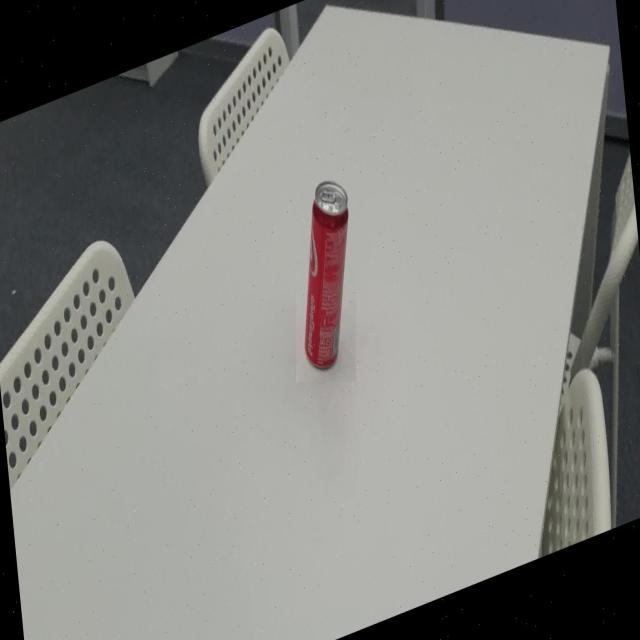coca-cola: (296, 172, 356, 382)
